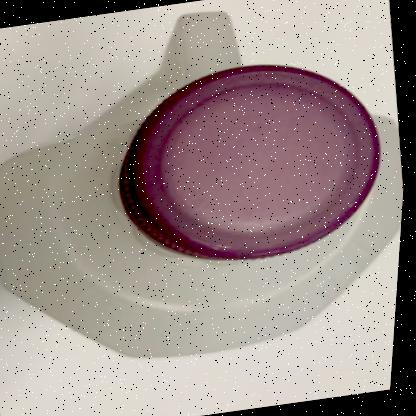Plastic: (0, 11, 406, 358)
